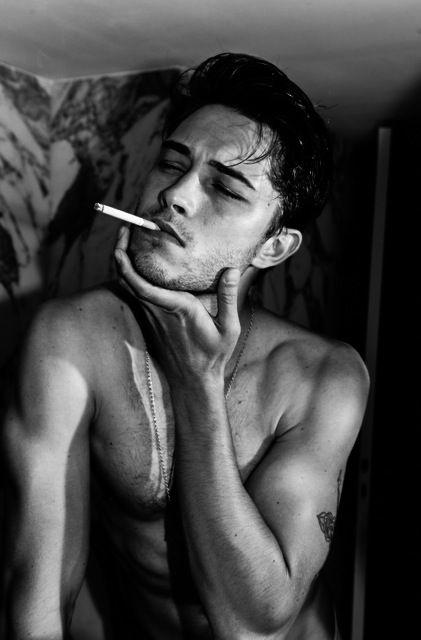cigarette: (95, 203, 161, 231)
